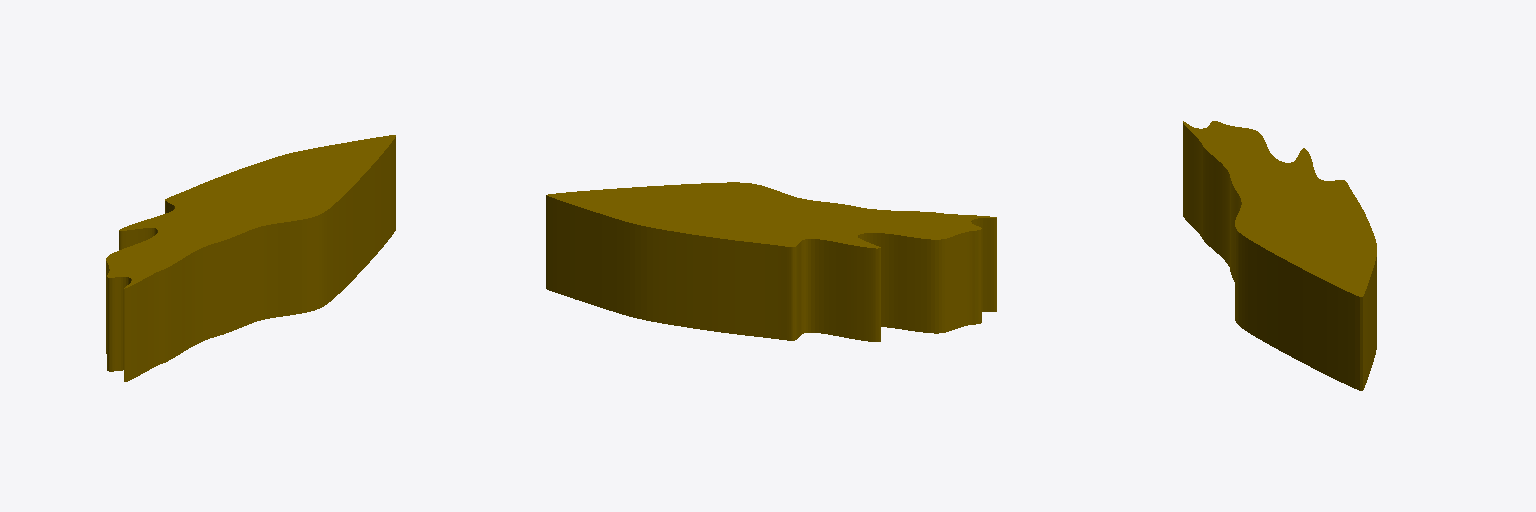
3 renders of one model, left to right at view 1: azimuth 30°, elevation 25°; view 2: azimuth 150°, elevation 25°; view 3: azimuth 270°, elevation 25°, orthographic.
Visible parts, largest first — view 1: Curve.016_path4204; view 2: Curve.016_path4204; view 3: Curve.016_path4204.
Boxes of the visible parts, box(x1,y1,x2,y2) form: Curve.016_path4204: box(106, 135, 395, 381); Curve.016_path4204: box(546, 182, 996, 341); Curve.016_path4204: box(1183, 121, 1376, 390).
Size of the model in its own units: 0.4036 by 0.1 by 0.1879.